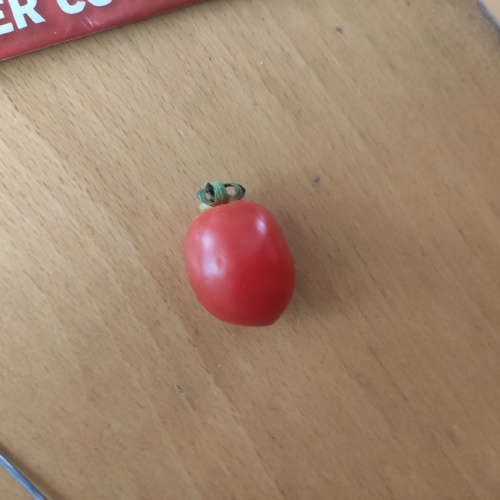pomodoro: (177, 174, 302, 329)
